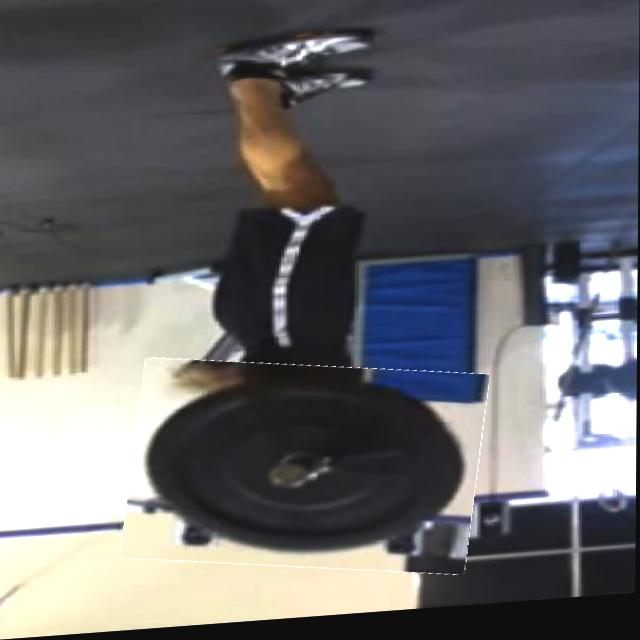barbell: (127, 352, 486, 592)
